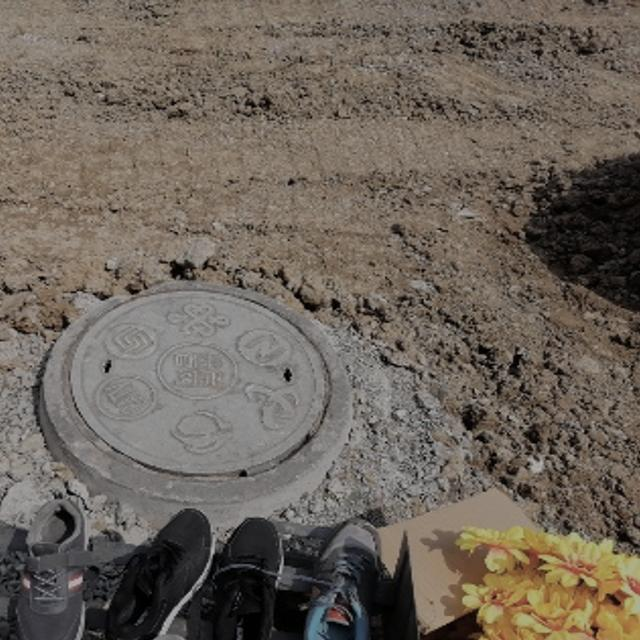good: (38, 278, 350, 499)
